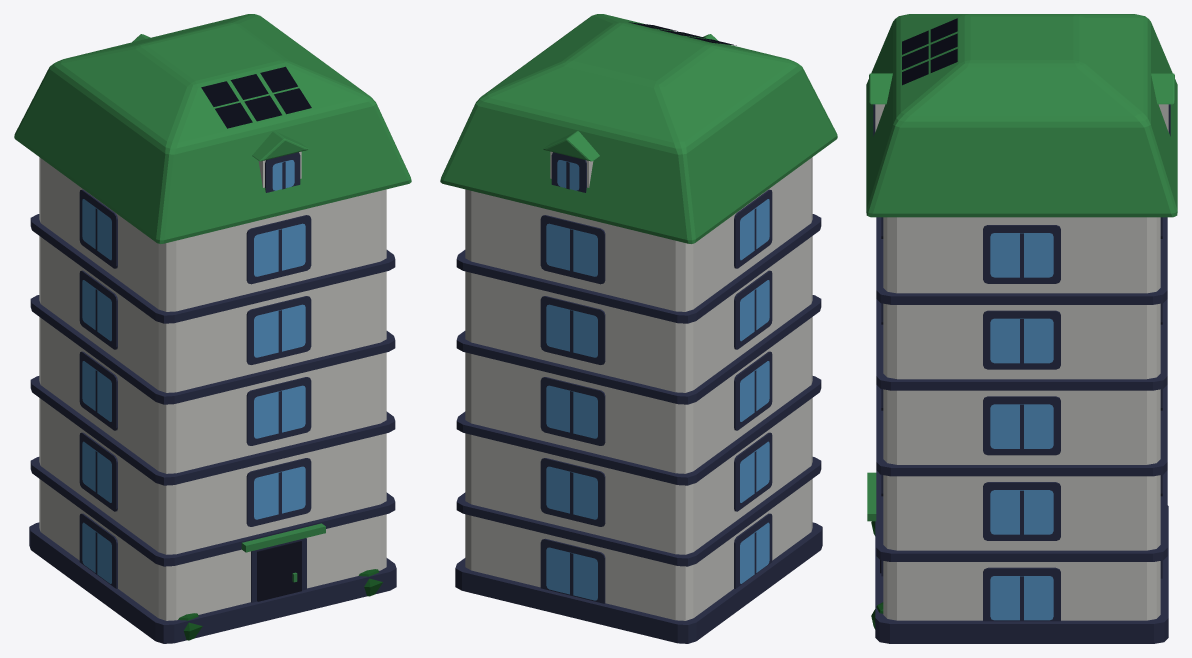
The model's file is house-1x1-5f-mansard-a-solar.glb.
The picture shows the model from 3 angles, left to right: view 1: azimuth 30°, elevation 25°; view 2: azimuth 150°, elevation 25°; view 3: azimuth 270°, elevation 25°; orthographic projection. The views are drawn at different scales.
Visible parts, largest first — view 1: house-1x1-5f-mansard-a-solar; view 2: house-1x1-5f-mansard-a-solar; view 3: house-1x1-5f-mansard-a-solar.
Part boxes in pixels (x1,y1,x2,y2): house-1x1-5f-mansard-a-solar: (14, 14, 411, 643); house-1x1-5f-mansard-a-solar: (440, 14, 837, 643); house-1x1-5f-mansard-a-solar: (866, 14, 1177, 643).
Bounding box in the file's own units: 0.9876 × 1.9 × 0.9876.
Materials: 1 (1 with a texture image).
